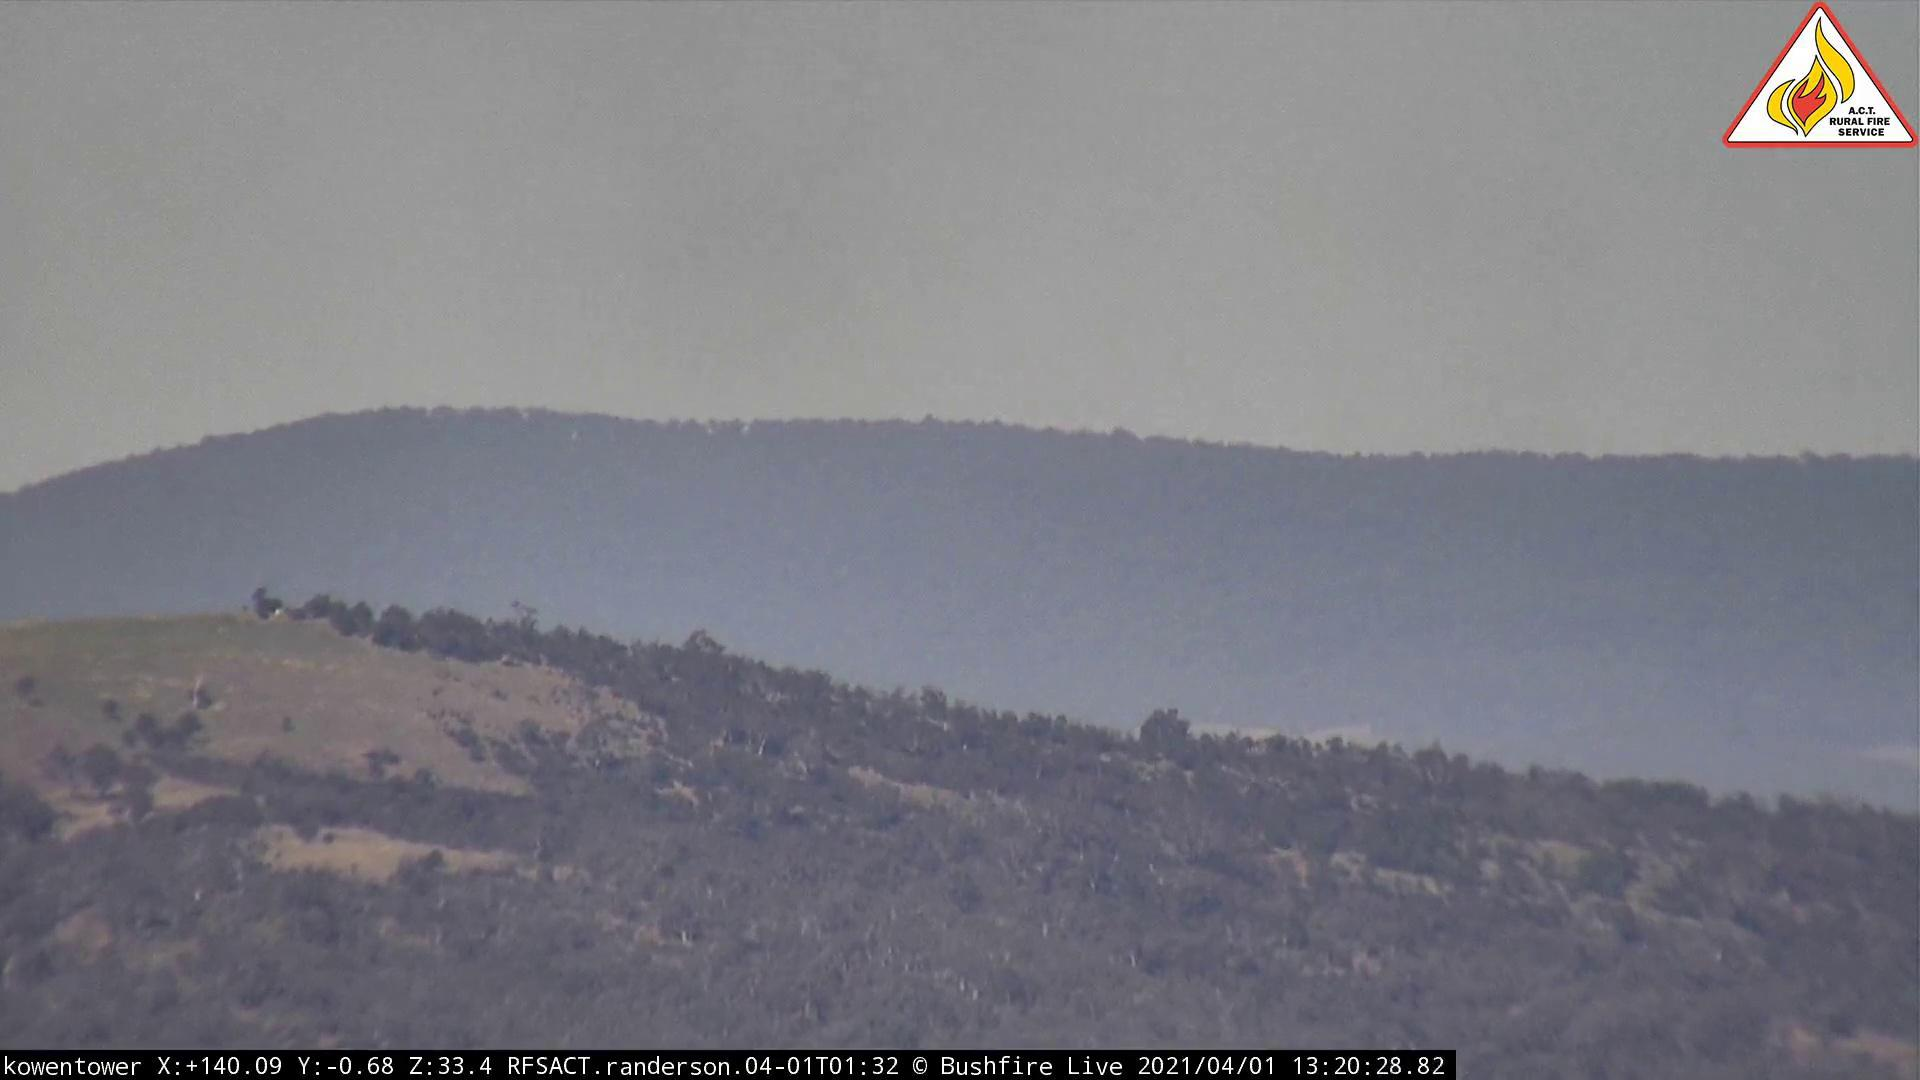Smoke: (382, 53, 1065, 517), (1317, 182, 1727, 574)
